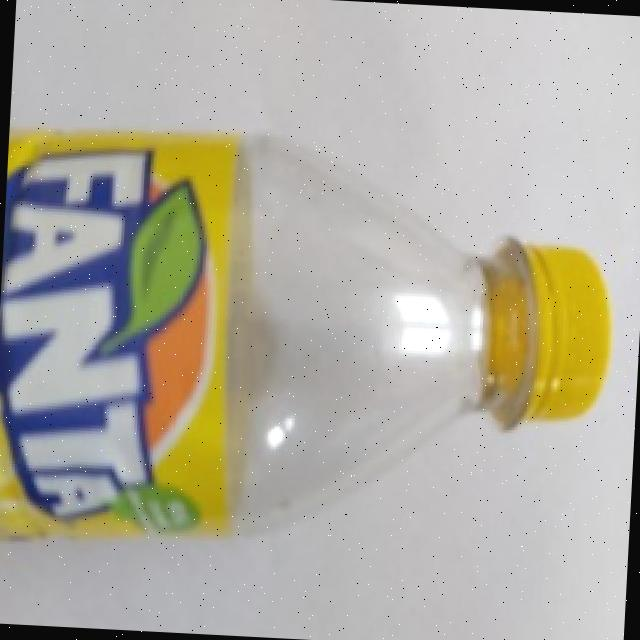bottle: (0, 123, 632, 560)
cap: (474, 230, 620, 436)
label: (0, 120, 255, 553)
